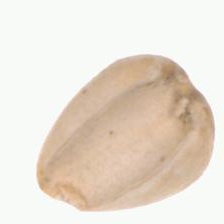L1: (165, 57, 212, 118), (34, 175, 88, 212)
L2: (35, 53, 215, 211)
